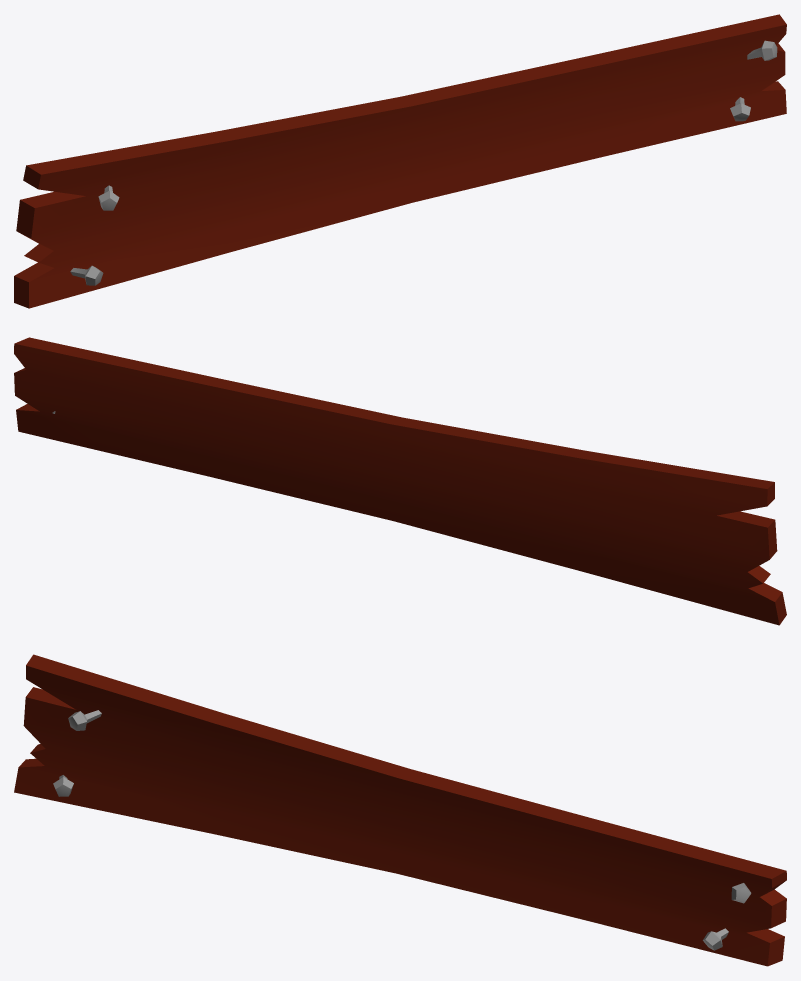
The model's file is MLD_TablaMadera.FBX.
3 views of the same model, one above another, from view 1: azimuth 30°, elevation 25°; view 2: azimuth 150°, elevation 25°; view 3: azimuth 330°, elevation 25° (orthographic).
Visible parts, largest first — view 1: Plane002; view 2: Plane002; view 3: Plane002.
Part boxes in pixels (x1,y1,x2,y2): Plane002: [14, 14, 786, 308]; Plane002: [14, 337, 786, 625]; Plane002: [14, 654, 786, 966].
Bounding box in the file's own units: 121 × 20.22 × 7.43.
